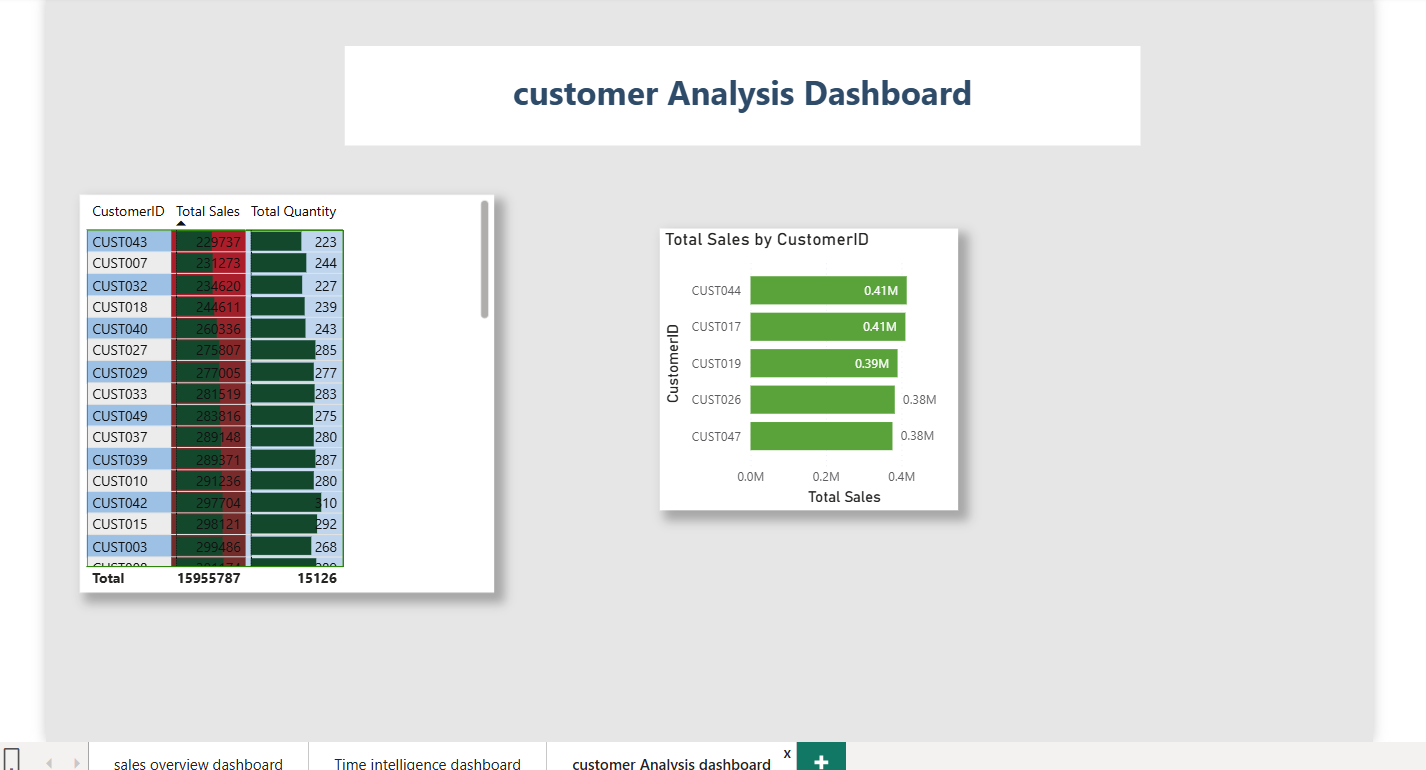

Layout of this report page (visuals, bound fields, positions):
{"tool":"powerbi","page":{"name":"customer Analysis dashboard","canvas":[1280,720],"ordinal":2},"visuals":[{"type":"tableEx","fields":{"Values":["sales.CustomerID","measures (2).Total Sales","measures (2).Total Quantity"]},"box":[32,192,400,384],"z":0},{"type":"clusteredBarChart","fields":{"Category":["sales.CustomerID"],"Y":["measures (2).Total Sales"]},"box":[592,224,288,272],"z":1000},{"type":"textbox","box":[288,48,768,96],"z":2000}]}

Visuals, with their boxes on the page's 1280x720 design canvas (x1, y1, x2, y2). These are canvas units, not pixel positions in the 1426x770 screenshot, which may show the page scaled, cropped or inside an application window:
tableEx - sales.CustomerID x measures (2).Total Sales: 32, 192, 432, 576
clusteredBarChart - sales.CustomerID x measures (2).Total Sales: 592, 224, 880, 496
textbox: 288, 48, 1056, 144
